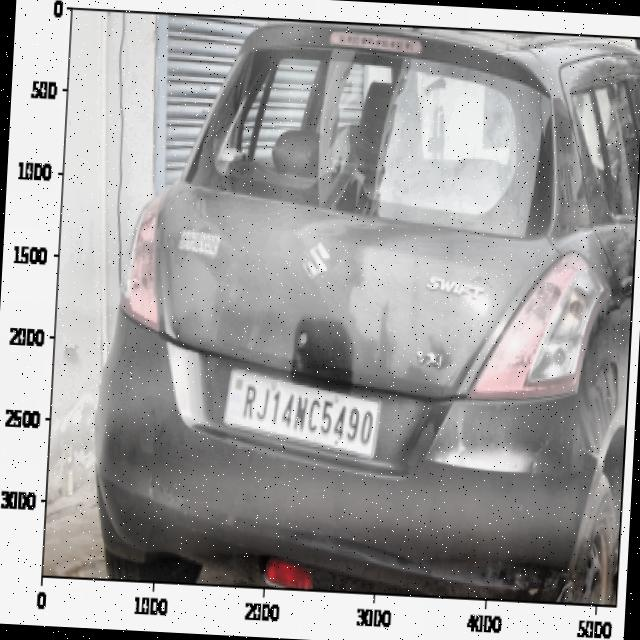license_plate: (238, 377, 380, 454)
